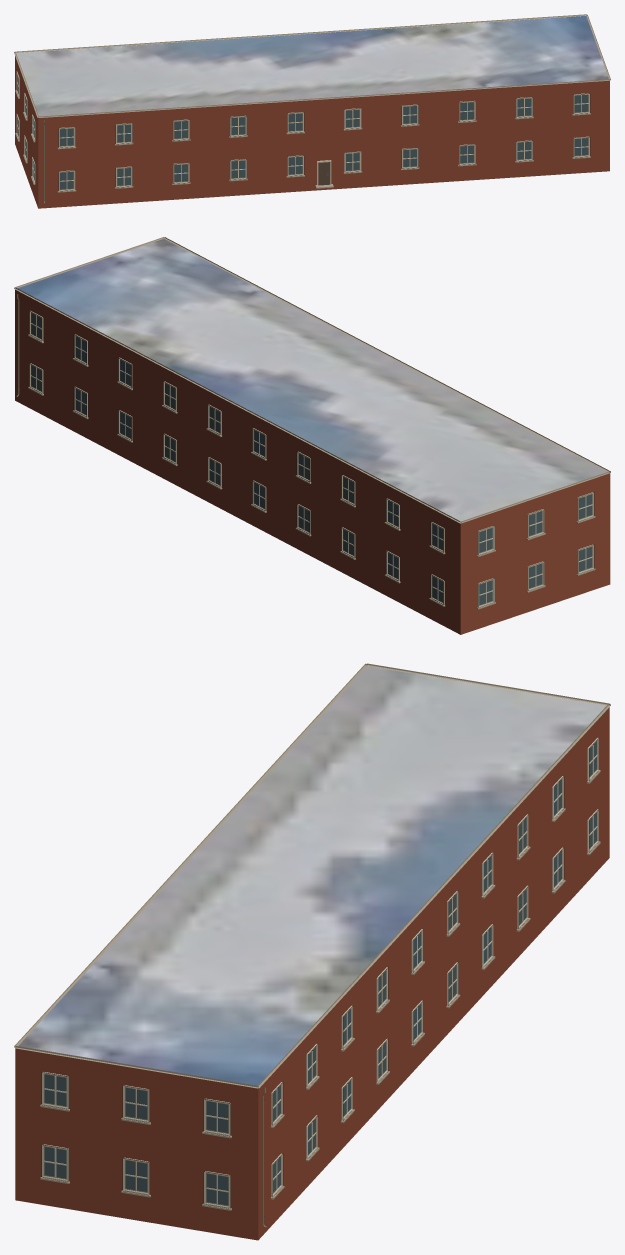
3 views of the same model, one above another, from view 1: azimuth 30°, elevation 25°; view 2: azimuth 150°, elevation 25°; view 3: azimuth 270°, elevation 25° (orthographic). The views are drawn at different scales.
Parts seen in each view (by area): view 1: 6_2_633747015_2; view 2: 6_2_633747015_2; view 3: 6_2_633747015_2.
Part boxes in pixels (box(x1,y1,x2,y2)): 6_2_633747015_2: box(14, 14, 610, 208); 6_2_633747015_2: box(14, 237, 610, 634); 6_2_633747015_2: box(14, 663, 610, 1240).
Size of the model in its own units: 51.16 by 8.67 by 30.45.
Materials: 10 (1 with a texture image).
